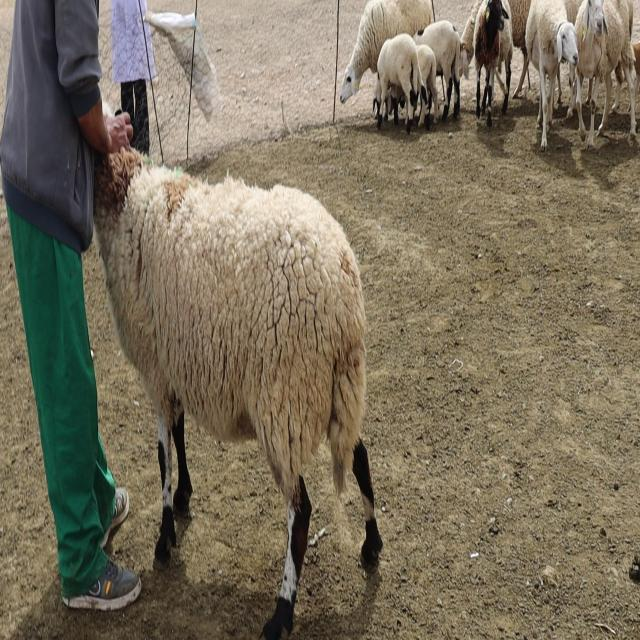Score_4: (94, 148, 382, 639)
